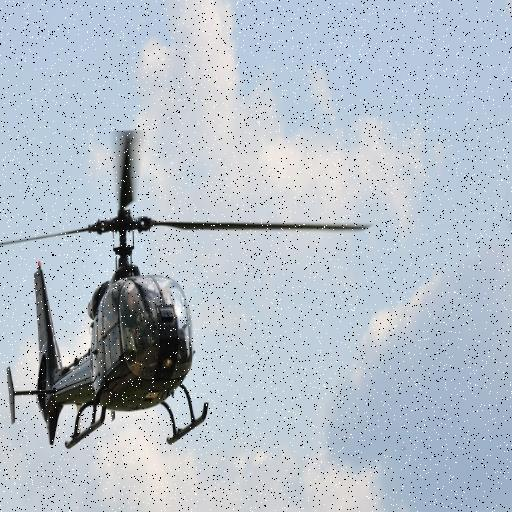helicopter: (1, 134, 369, 444)
